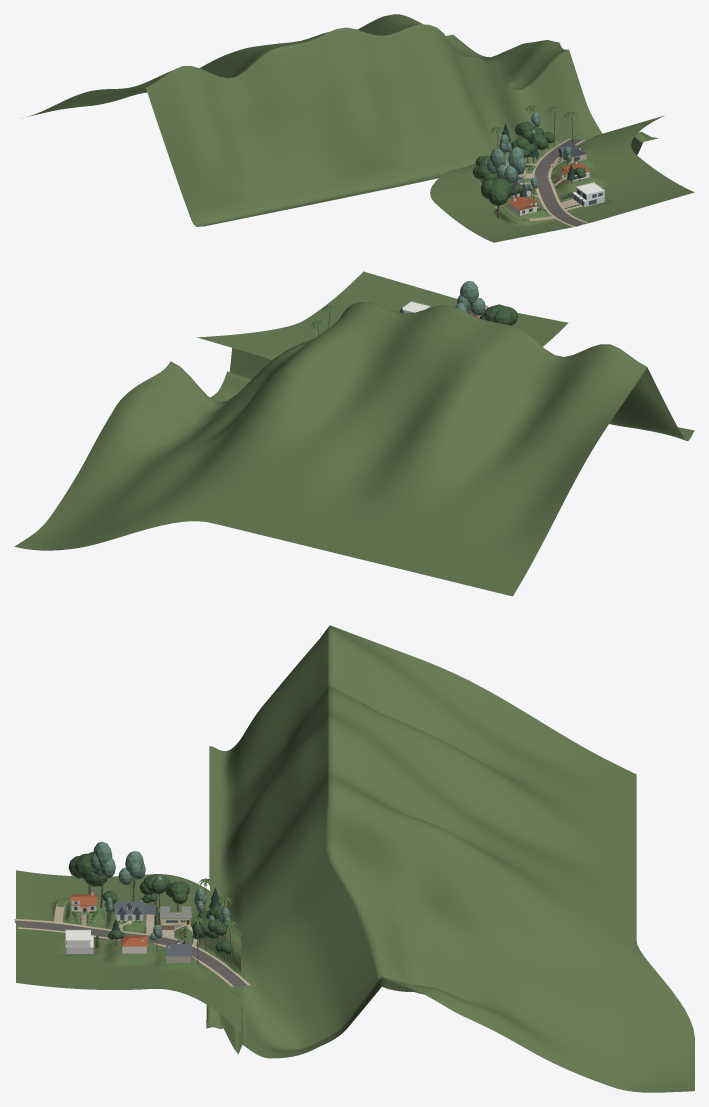
Rendered from LA-hills-01.glb.
The picture shows the model from 3 angles, top to bottom: view 1: azimuth 30°, elevation 25°; view 2: azimuth 150°, elevation 25°; view 3: azimuth 270°, elevation 25°; orthographic projection. The views are drawn at different scales.
Parts seen in each view (by area): view 1: terrain_hill_bg, Terrain_Hillside_120x100m, Road_Carriageway_7m, Tree_Far_12_Oak, Tree_Far_05_Eucalyptus, Tree_Far_14_Eucalyptus; view 2: terrain_hill_bg, Terrain_Hillside_120x100m, Tree_Far_05_Eucalyptus, Tree_Far_12_Oak; view 3: terrain_hill_bg, Terrain_Hillside_120x100m, Road_Carriageway_7m, Tree_Far_05_Eucalyptus, Tree_Far_12_Oak, Tree_Far_14_Eucalyptus.
Part boxes in pixels (<box>): terrain_hill_bg: <box>27,14,658,226</box>; Terrain_Hillside_120x100m: <box>430,115,694,242</box>; Road_Carriageway_7m: <box>534,139,582,226</box>; Tree_Far_12_Oak: <box>481,177,512,218</box>; Tree_Far_05_Eucalyptus: <box>504,147,525,197</box>; Tree_Far_14_Eucalyptus: <box>487,148,506,178</box>; terrain_hill_bg: <box>14,302,694,596</box>; Terrain_Hillside_120x100m: <box>197,271,568,360</box>; Tree_Far_05_Eucalyptus: <box>457,281,485,315</box>; Tree_Far_12_Oak: <box>479,304,517,325</box>; terrain_hill_bg: <box>203,625,694,1092</box>; Terrain_Hillside_120x100m: <box>16,870,240,1032</box>; Road_Carriageway_7m: <box>15,920,247,986</box>; Tree_Far_05_Eucalyptus: <box>90,841,115,908</box>; Tree_Far_12_Oak: <box>68,852,107,894</box>; Tree_Far_14_Eucalyptus: <box>118,851,145,901</box>.
Bounding box in the file's own units: 287 × 108 × 303.
